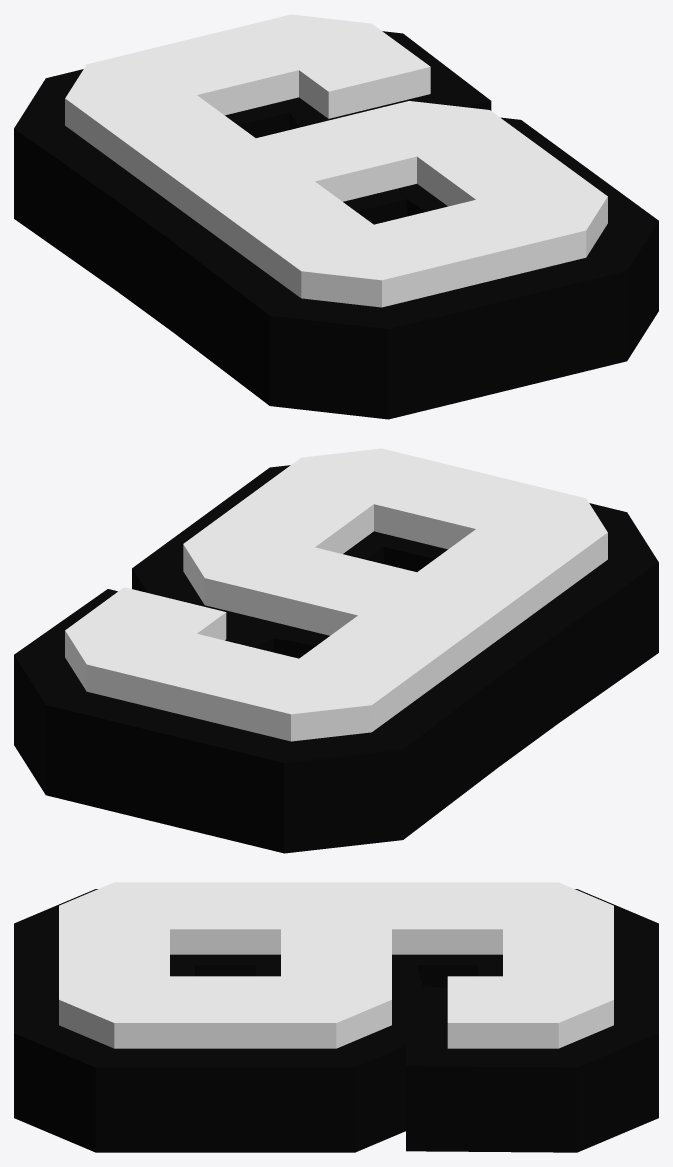
File: txt_6.glb
3 views of the same model, one above another, from view 1: azimuth 30°, elevation 25°; view 2: azimuth 150°, elevation 25°; view 3: azimuth 270°, elevation 25° (orthographic). The views are drawn at different scales.
Visible parts, largest first — view 1: 6.001; view 2: 6.001; view 3: 6.001.
Part boxes in pixels (<box>): 6.001: <box>14,14,658,419</box>; 6.001: <box>14,448,658,853</box>; 6.001: <box>14,882,658,1152</box>.
Size of the model in its own units: 0.6854 by 0.1978 by 1.05.
1 material, 1 textured.
